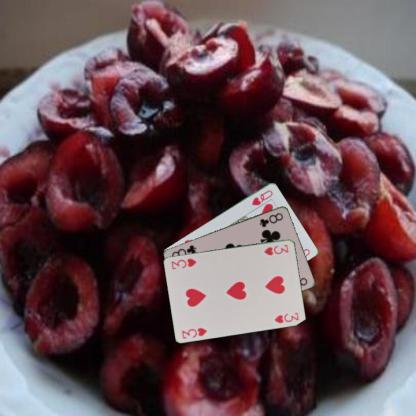3h: (180, 324, 209, 340), (262, 242, 290, 257)
8c: (257, 210, 284, 228)
Qh: (249, 187, 274, 206)
